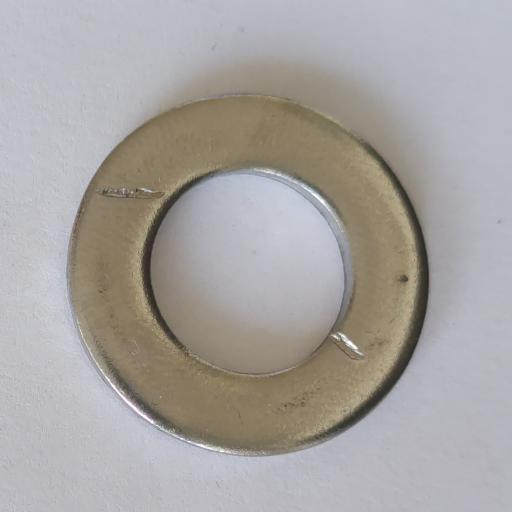scratch: (95, 186, 166, 201), (330, 332, 365, 362)
